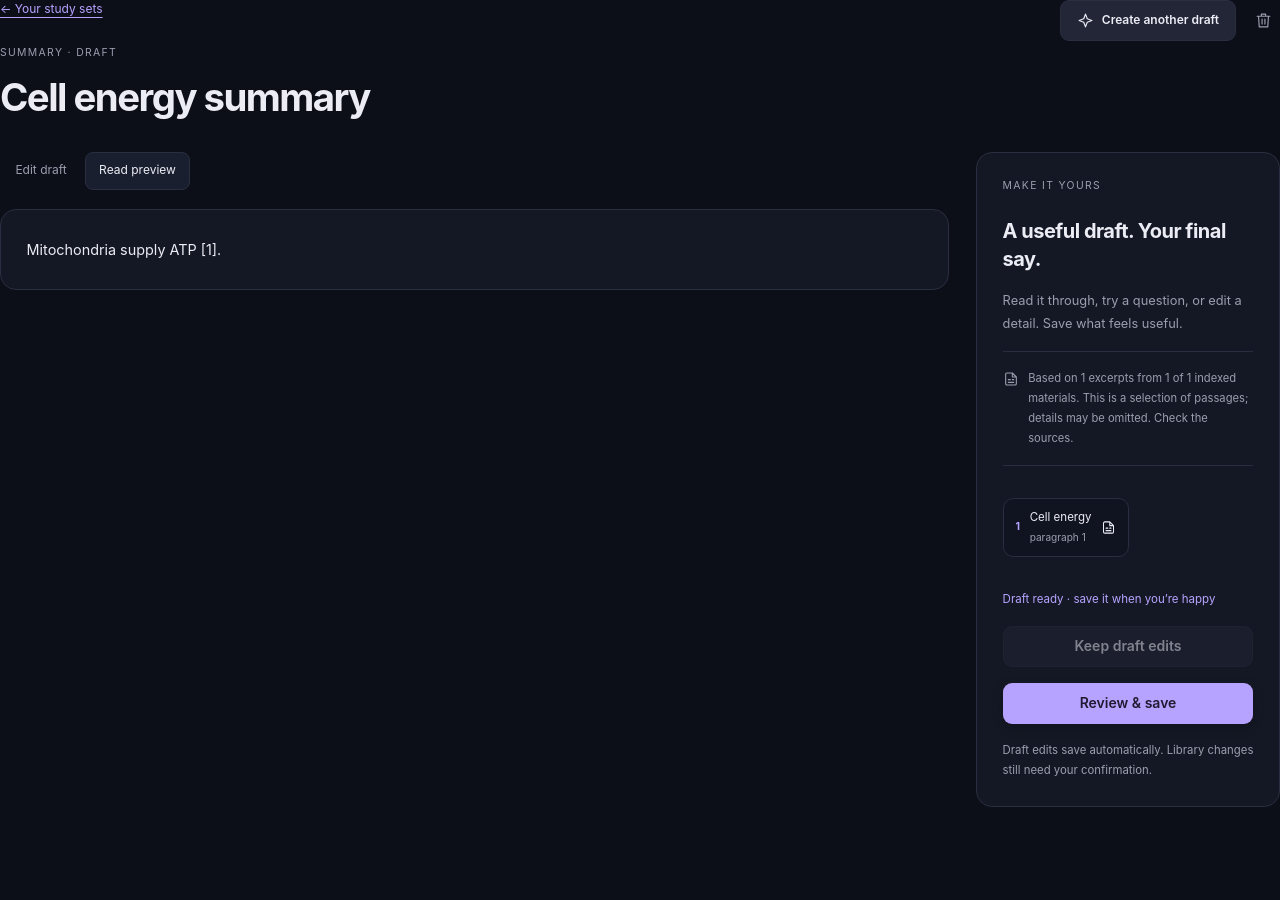
Complete study tools interface › keeps edits private until the user reviews and confirms the exact revision
Click the button "Edit draft" at (41, 171), box [2,152,80,190]
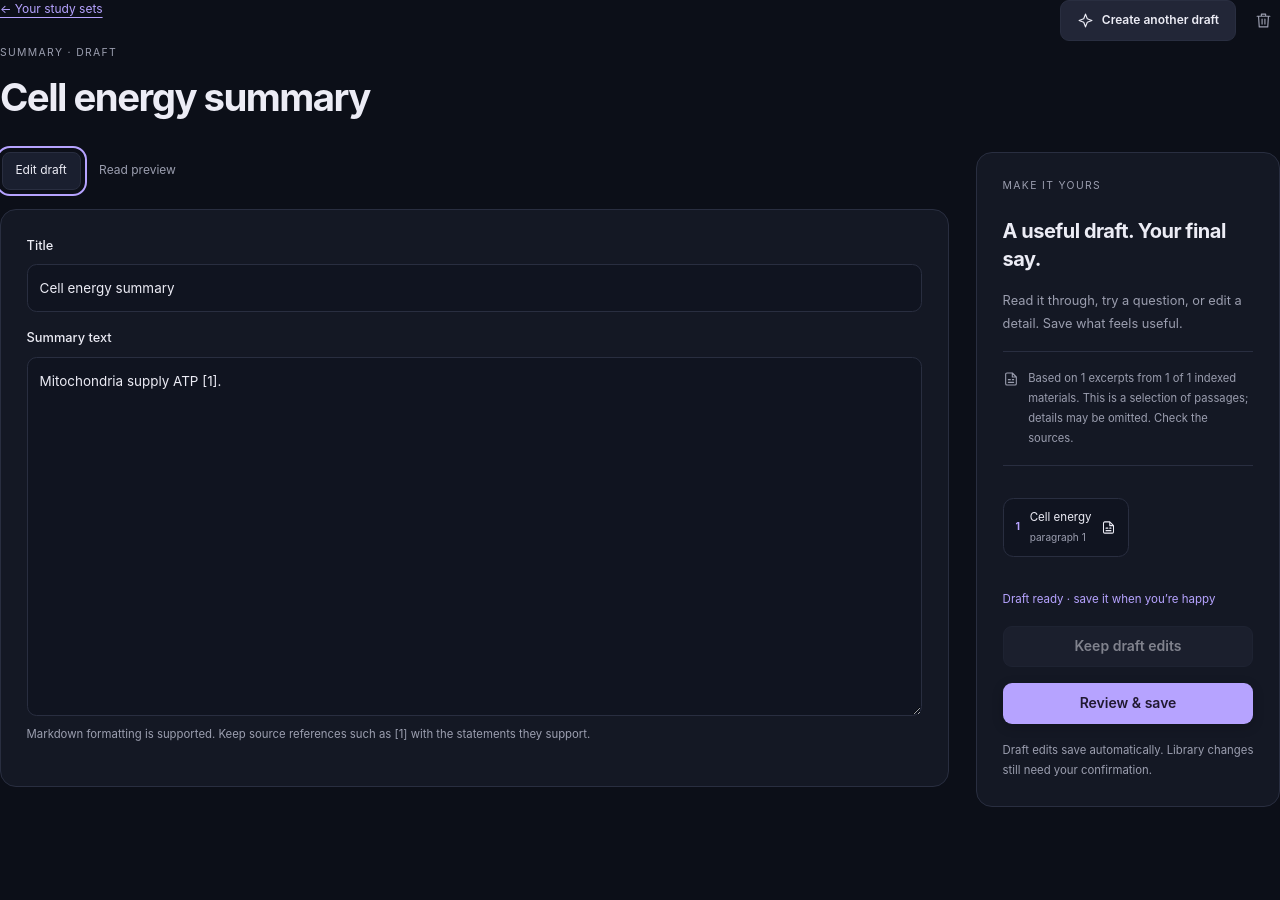
Replace the text in the field labelled "Title" with "My cell summary" at (474, 288), box [27,264,922,312]
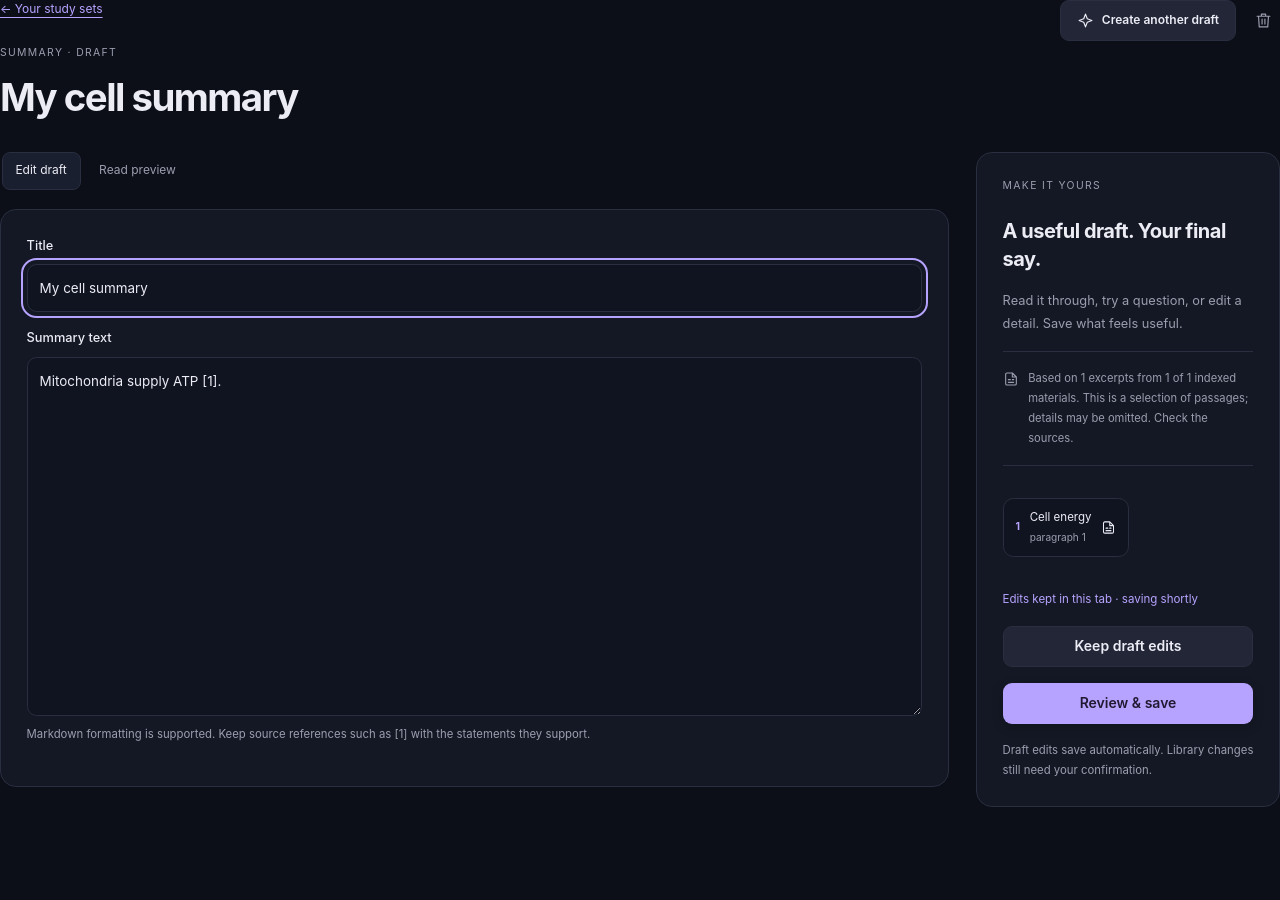
Click the button "Review & save" at (1128, 703), box [1003,683,1253,724]
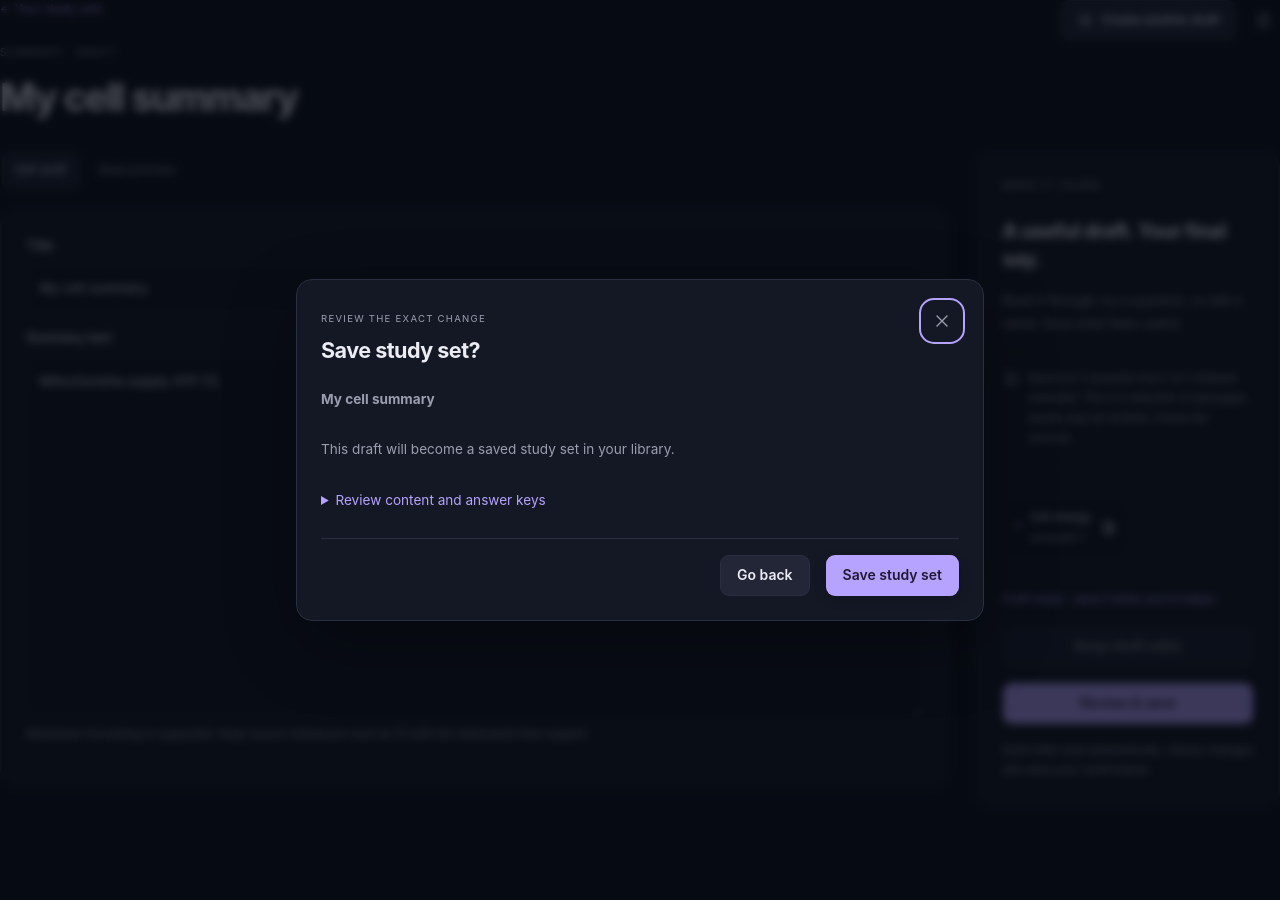
Expected: the text "My cell summary" is shown, [321,391,435,407]
Click the button "Save study set" at (892, 576), box [826,555,959,596]
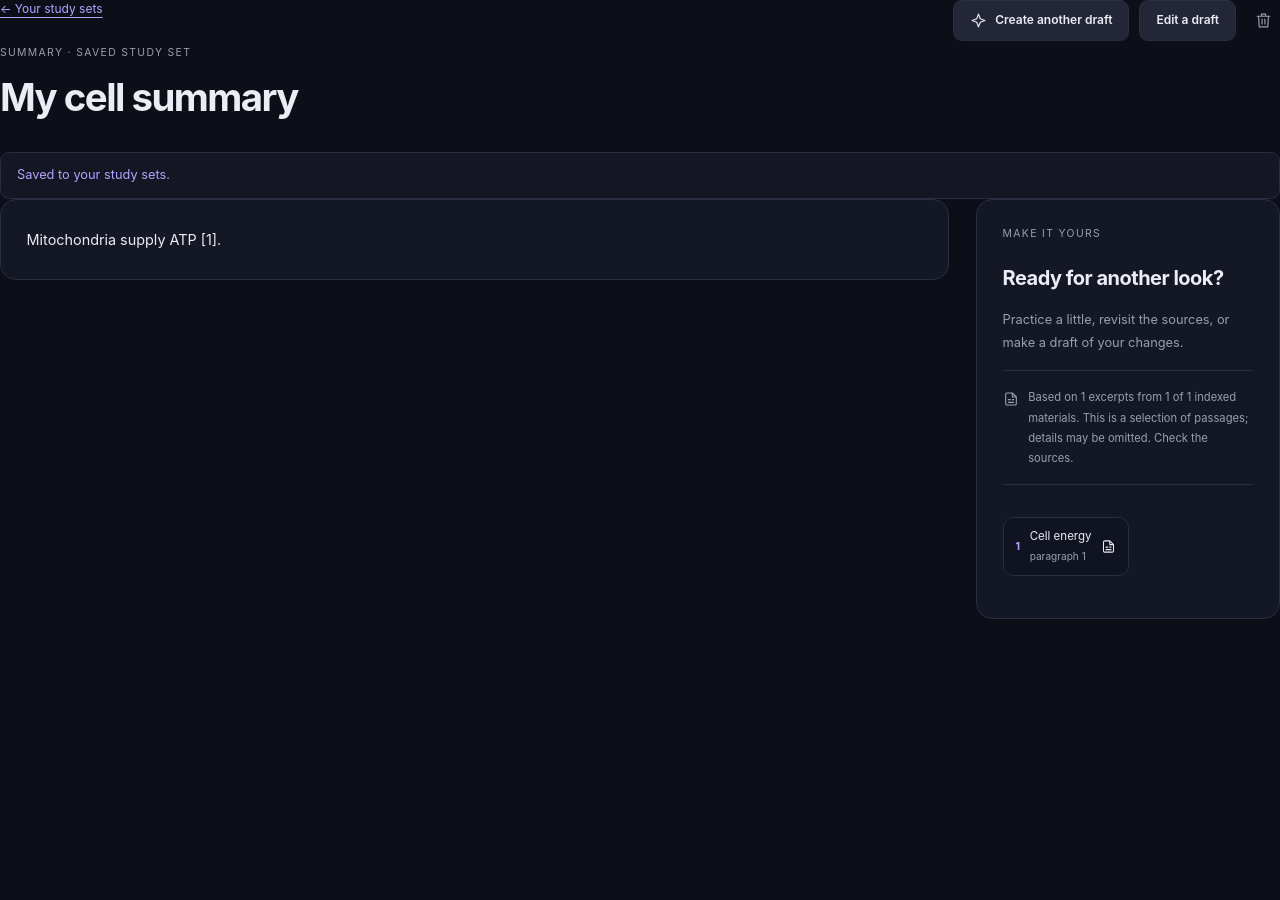
Expected: the heading "My cell summary" is shown, [0,73,298,123]
Expected: the text "Saved to your study sets." is shown, [0,152,1279,199]
